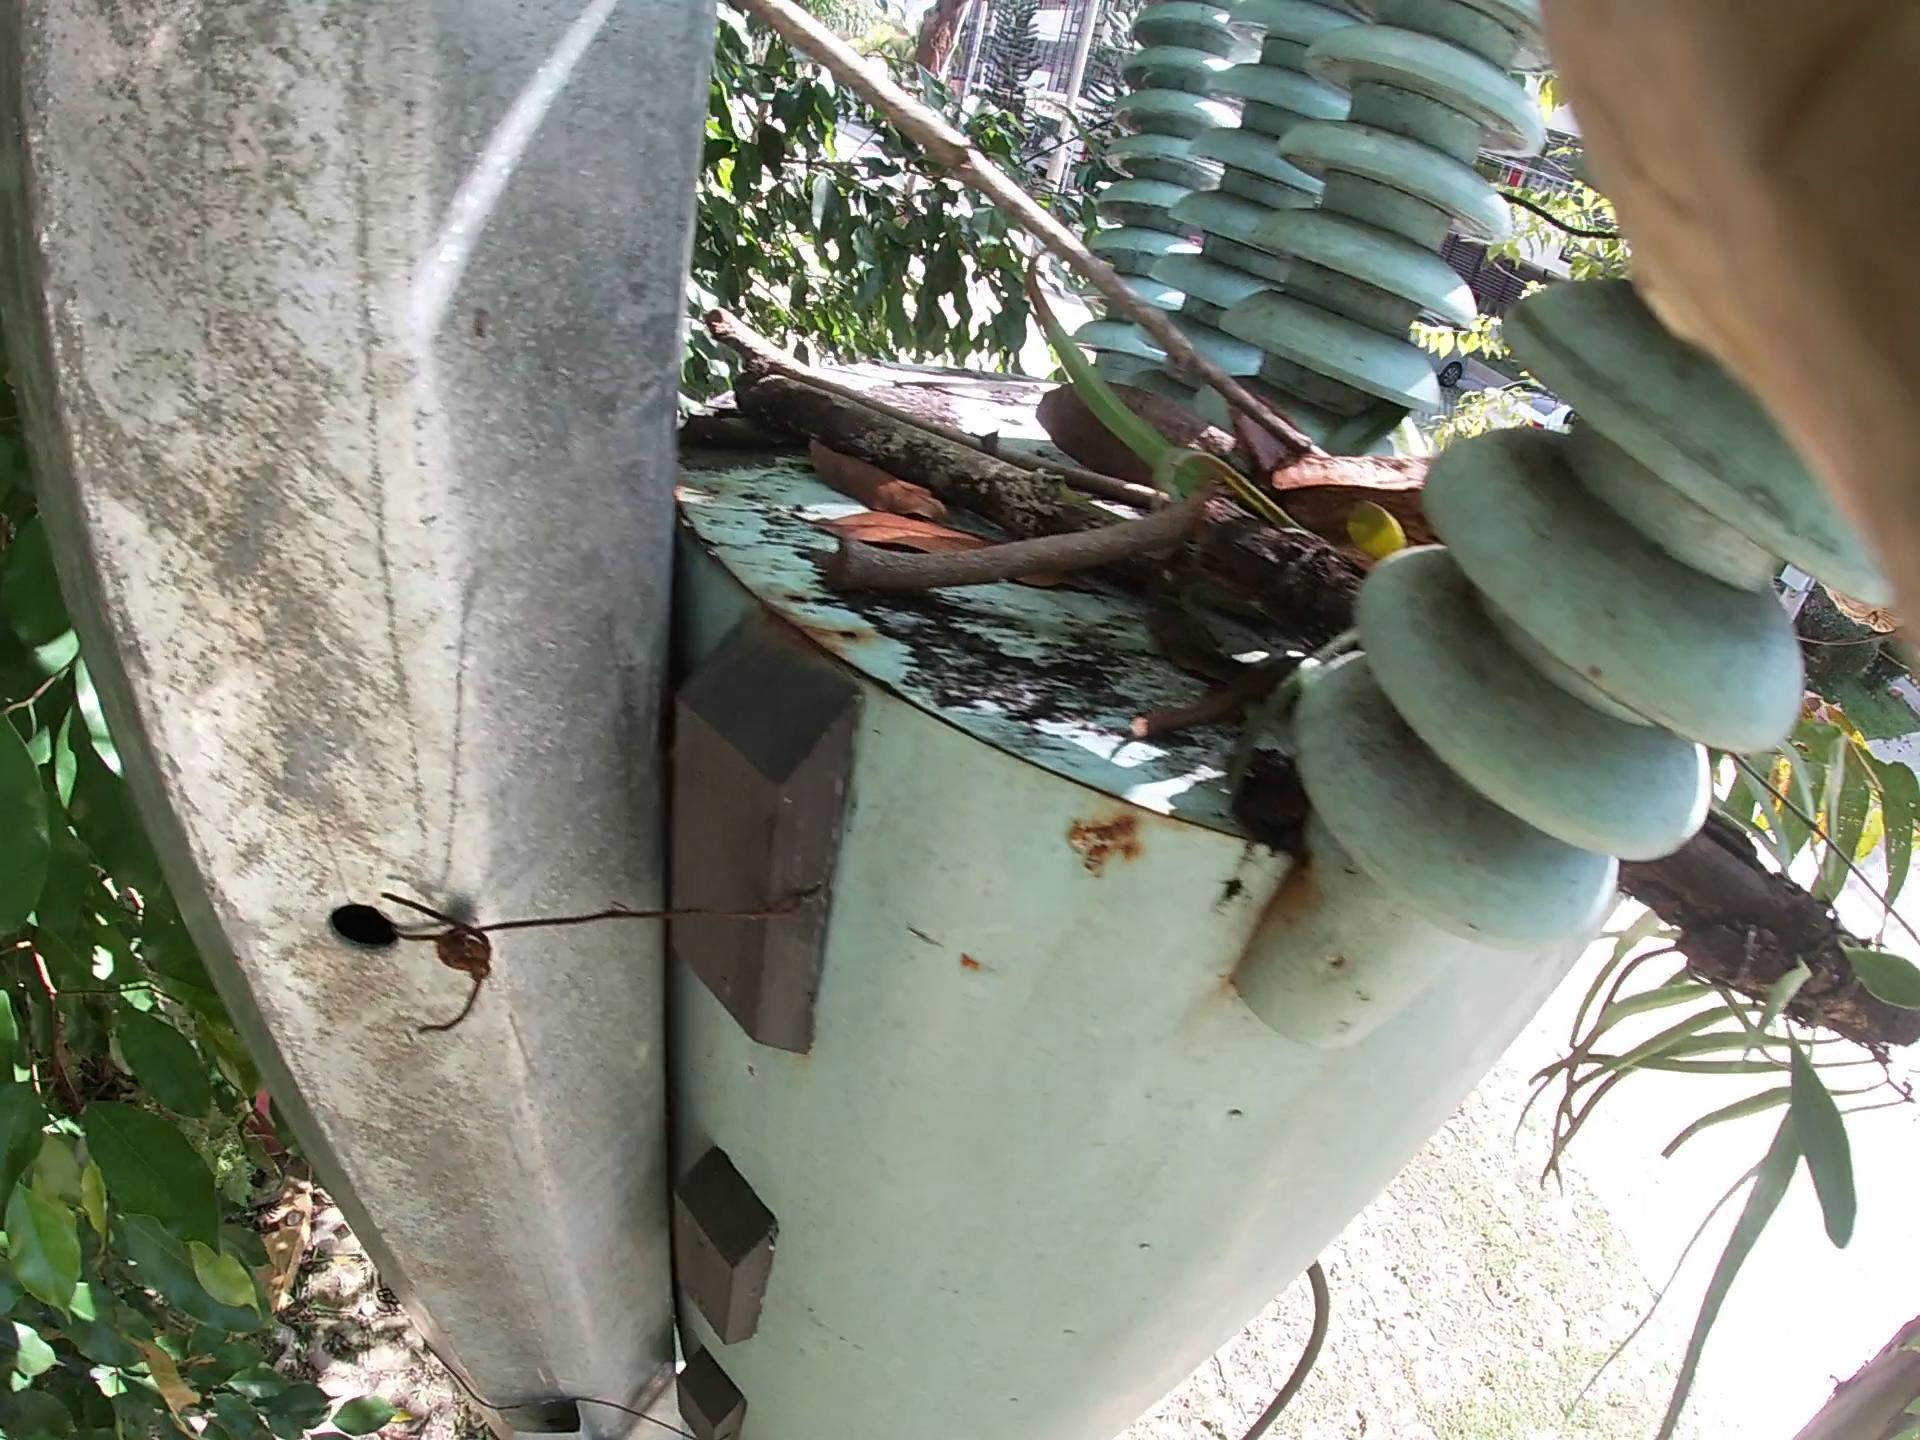branch with leaves: (736, 333, 1920, 1059)
leaf: (759, 413, 945, 602)
mahogany fruit: (1234, 396, 1521, 644)
tree branch: (803, 20, 1303, 486), (712, 299, 1179, 504), (838, 476, 1199, 570), (1030, 349, 1228, 513)
